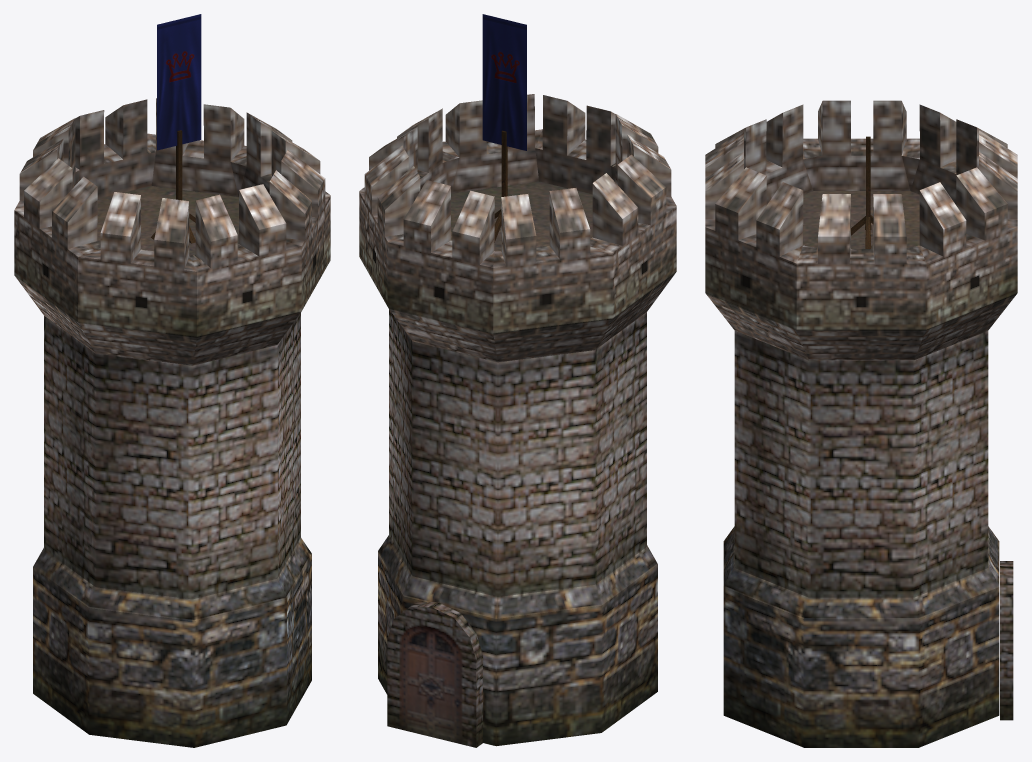
The model's file is MEB_Column.fbx.
3 views of the same model, side by side, from view 1: azimuth 30°, elevation 25°; view 2: azimuth 150°, elevation 25°; view 3: azimuth 270°, elevation 25° (orthographic).
Visible parts, largest first — view 1: MEB_Column; view 2: MEB_Column; view 3: MEB_Column.
Boxes of the visible parts, x1,y1,x2,y2 form: MEB_Column: (14,14,330,747); MEB_Column: (359,14,676,747); MEB_Column: (705,100,1017,747).
Size of the model in its own units: 469 by 1177 by 495.
1 material, 1 textured.
